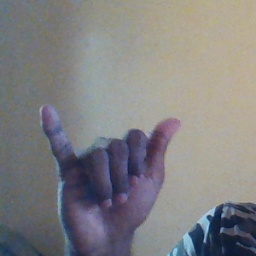J: (37, 101, 184, 235)
